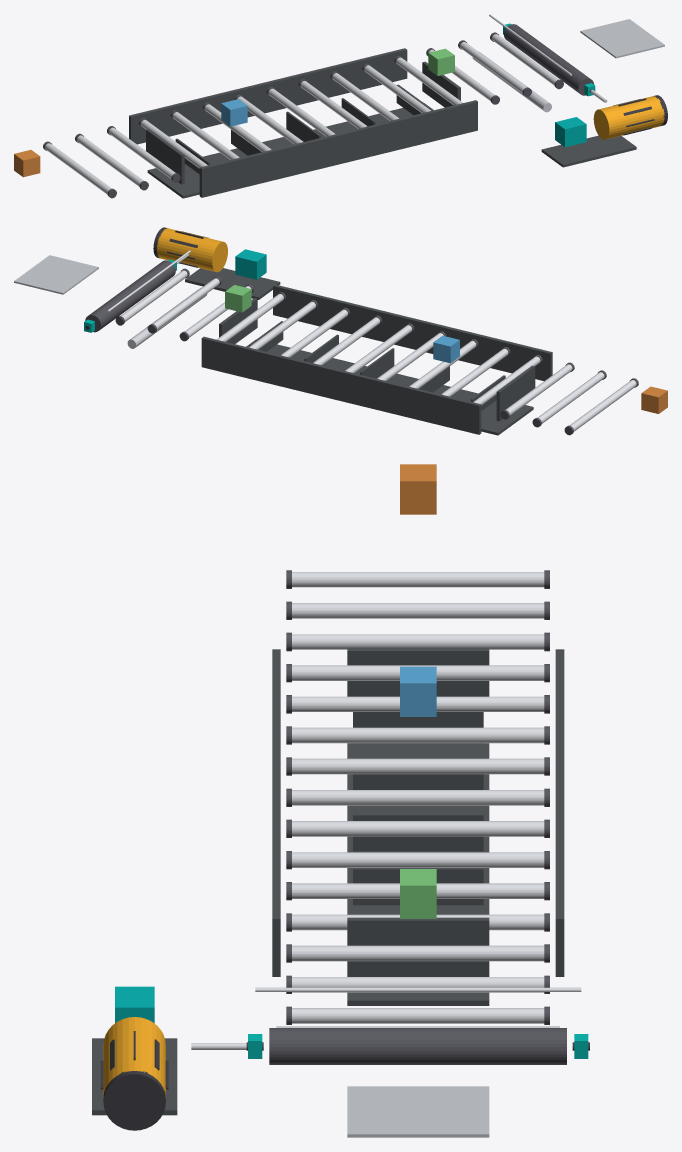
The model's file is conveyor_belt.glb.
The picture shows the model from 3 angles, top to bottom: view 1: azimuth 30°, elevation 25°; view 2: azimuth 150°, elevation 25°; view 3: azimuth 270°, elevation 25°; orthographic projection. The views are drawn at different scales.
Visible parts, largest first — view 1: SideFrame_-1.0, SideFrame_1.0, MotorBody, FrameBottom, BedPlate, DriveRoller, MotorBase, EndPlate_-4.5, Gearbox, EndPlate_4.5, CarrierRoller_-5, CarrierRoller_-7 (+20 smaller); view 2: SideFrame_1.0, SideFrame_-1.0, FrameBottom, MotorBody, BedPlate, DriveRoller, MotorBase, EndPlate_-4.5, Gearbox, EndPlate_4.5, CarrierRoller_-7, CarrierRoller_-5 (+20 smaller); view 3: DriveRoller, FrameBottom, BedPlate, EndPlate_4.5, CarrierRoller_-2, CarrierRoller_-1, CarrierRoller_5, EndPlate_-4.5, CarrierRoller_-6, CarrierRoller_0, CarrierRoller_1, CarrierRoller_2 (+22 smaller).
Part boxes in pixels (x1,y1,x2,y2): SideFrame_-1.0: (199,100,477,197); SideFrame_1.0: (129,48,407,144); MotorBody: (593,96,664,139); FrameBottom: (147,103,433,198); BedPlate: (580,19,664,58); DriveRoller: (504,24,594,95); MotorBase: (541,135,636,167); EndPlate_-4.5: (146,129,184,184); Gearbox: (555,117,586,147); EndPlate_4.5: (422,61,460,107); CarrierRoller_-5: (109,127,175,178); CarrierRoller_-7: (45,143,111,194); SideFrame_1.0: (201,336,481,434); SideFrame_-1.0: (273,284,552,380); FrameBottom: (246,339,533,435); MotorBody: (157,228,227,272); BedPlate: (14,255,98,294); DriveRoller: (85,260,175,332); MotorBase: (185,268,280,299); EndPlate_-4.5: (496,365,535,421); Gearbox: (235,249,266,279); EndPlate_4.5: (219,298,257,343); CarrierRoller_-7: (569,380,636,431); CarrierRoller_-5: (505,364,572,415); DriveRoller: (269,1028,566,1064); FrameBottom: (347,743,489,1005); BedPlate: (347,1086,489,1137); EndPlate_4.5: (347,917,489,976); CarrierRoller_-2: (292,727,544,743); CarrierRoller_-1: (292,758,544,774); CarrierRoller_5: (292,945,544,961); EndPlate_-4.5: (347,648,489,696); CarrierRoller_-6: (292,603,544,618); CarrierRoller_0: (292,790,544,805); CarrierRoller_1: (292,821,544,836); CarrierRoller_2: (292,852,544,867).
Size of the model in its own units: 10.24 by 1 by 3.51.
